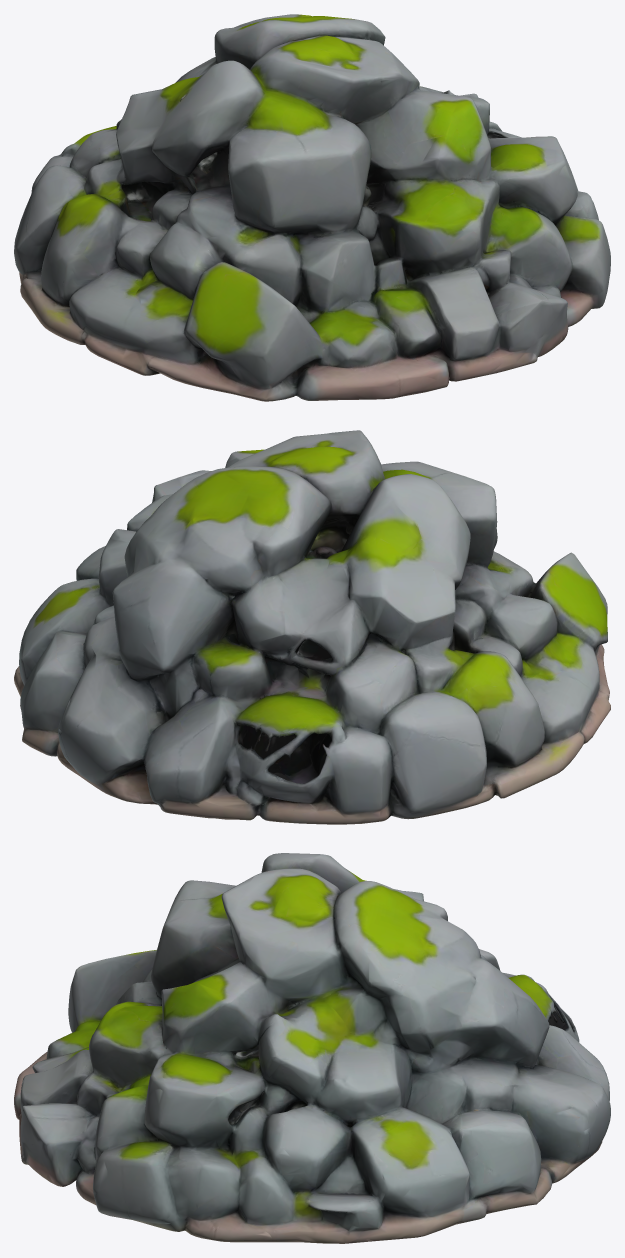
File: rock-cluster.glb
The picture shows the model from 3 angles, top to bottom: view 1: azimuth 30°, elevation 25°; view 2: azimuth 150°, elevation 25°; view 3: azimuth 270°, elevation 25°; orthographic projection. The views are drawn at different scales.
Bounding box in the file's own units: 1.94 × 0.8861 × 2.
Materials: 1 (1 with a texture image).
